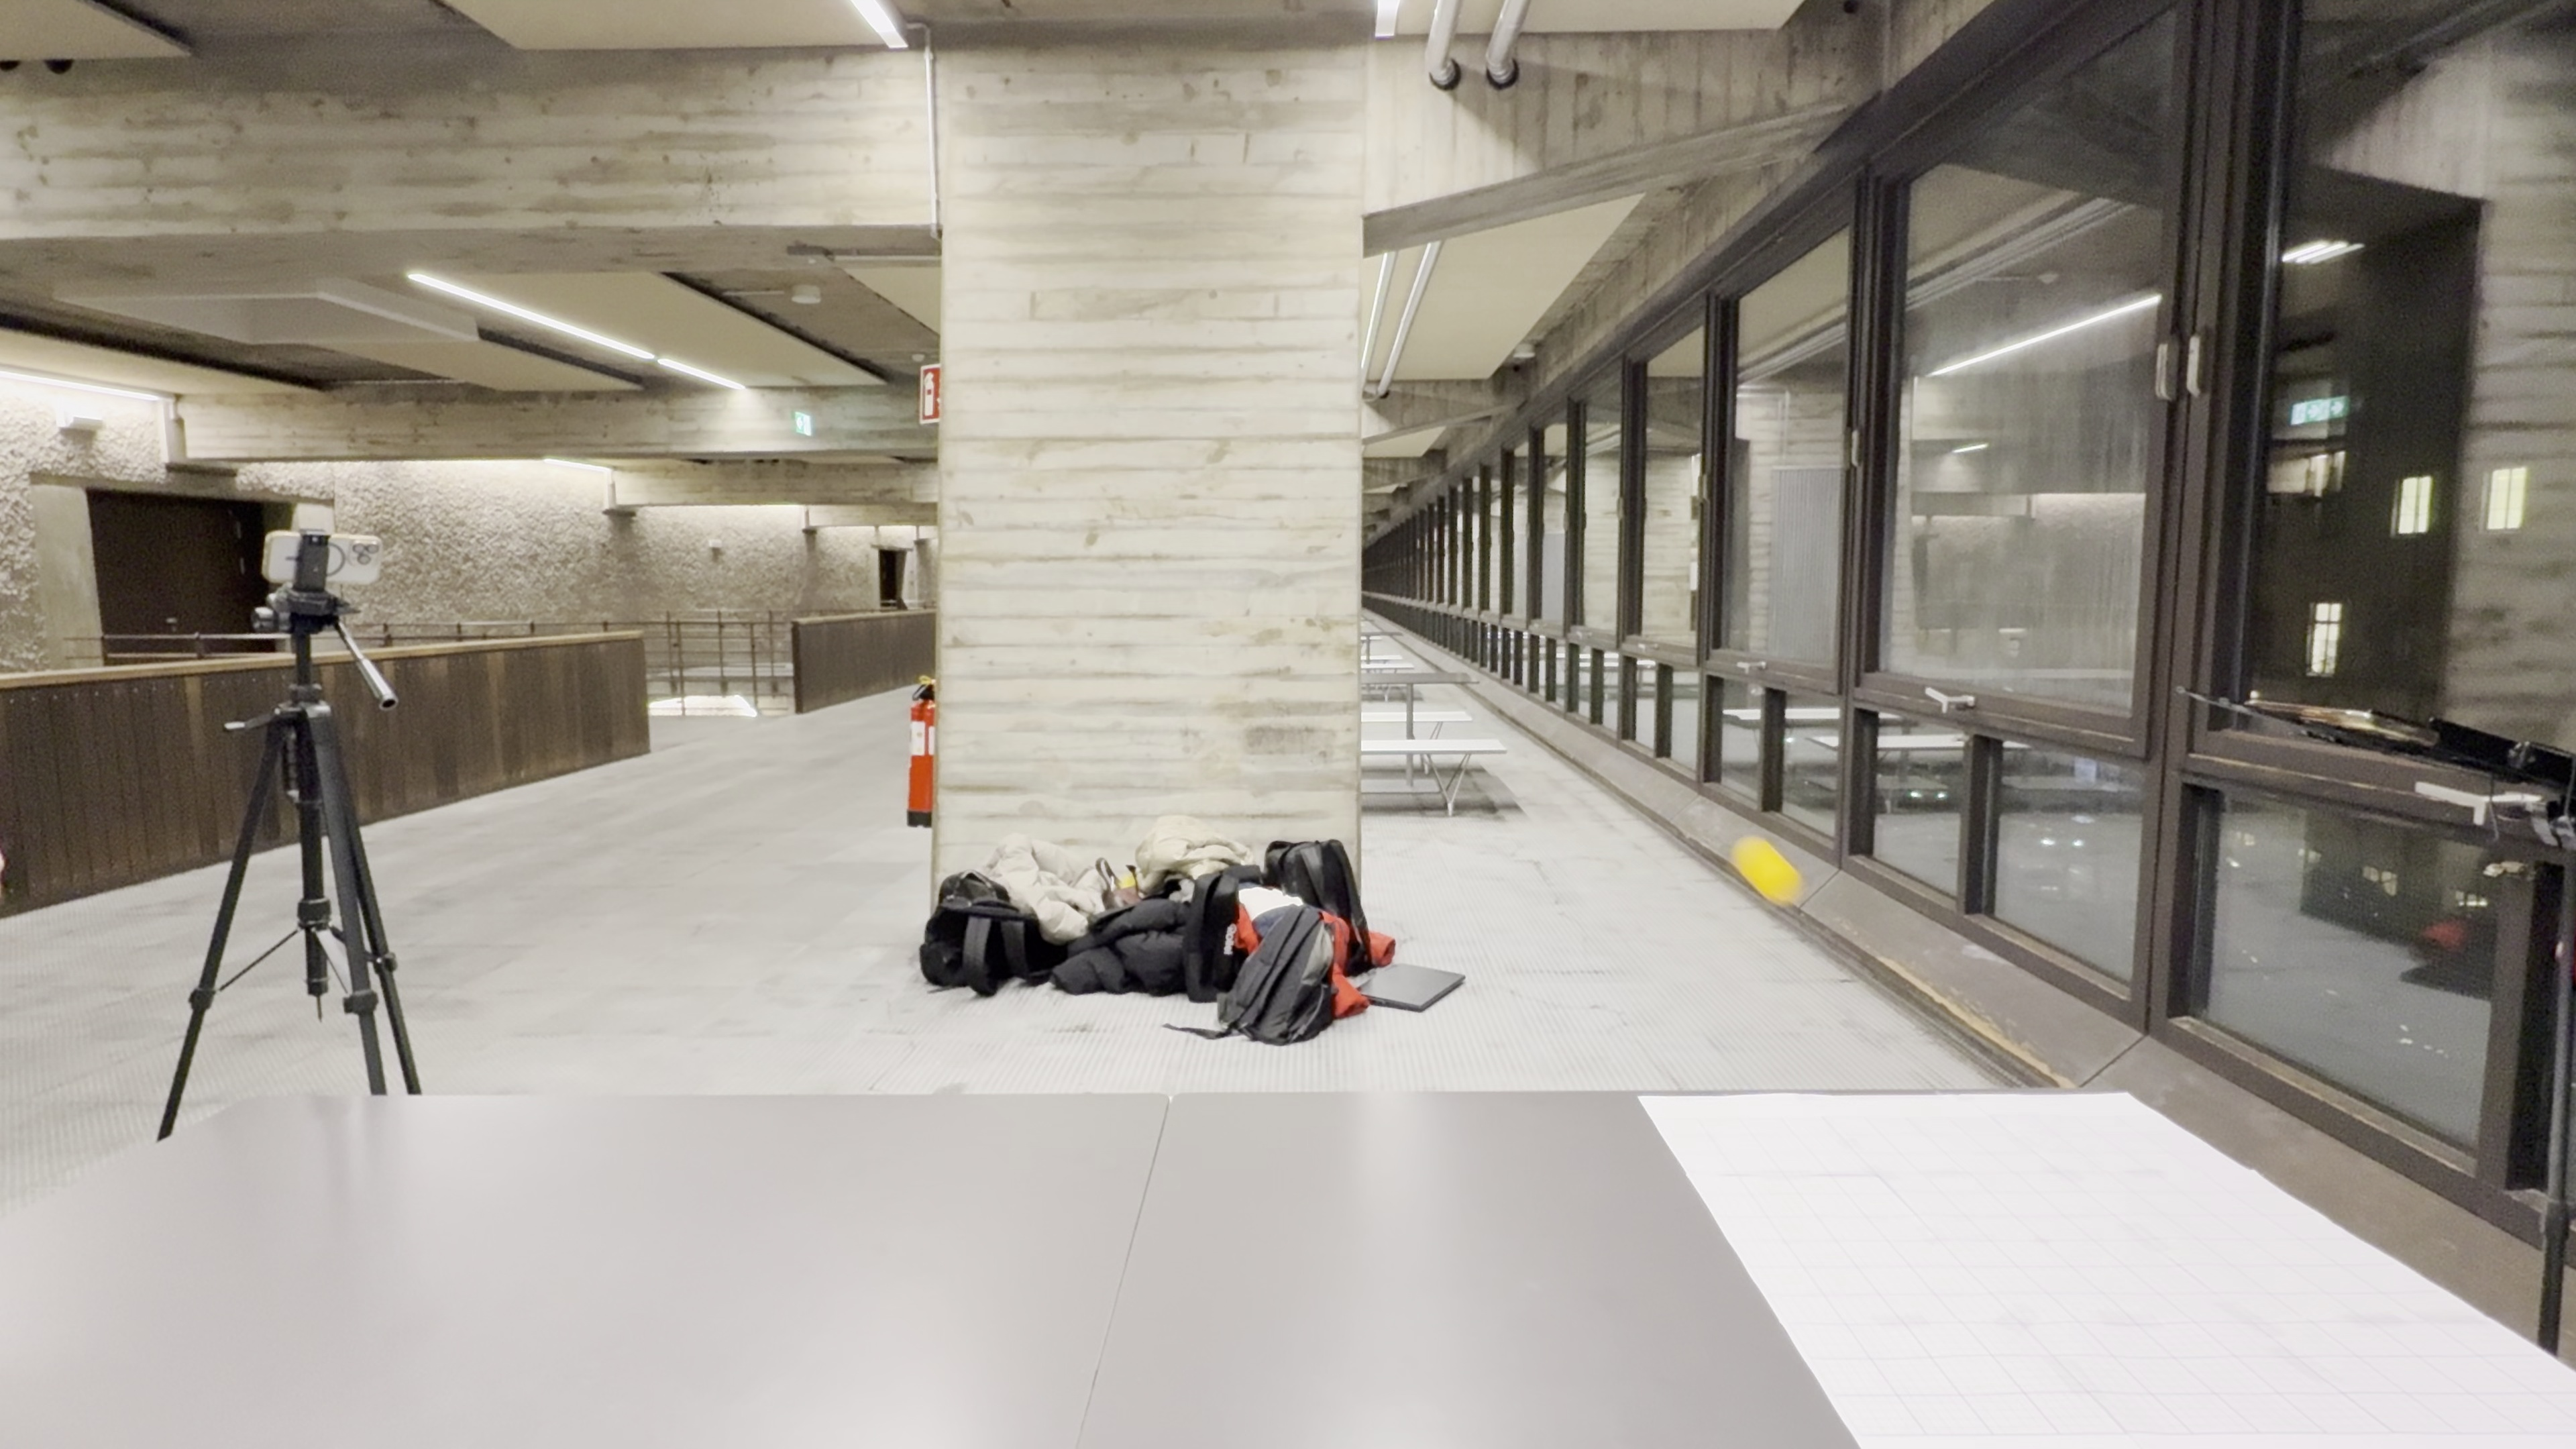ping-pong ball: (1725, 830, 1815, 915)
